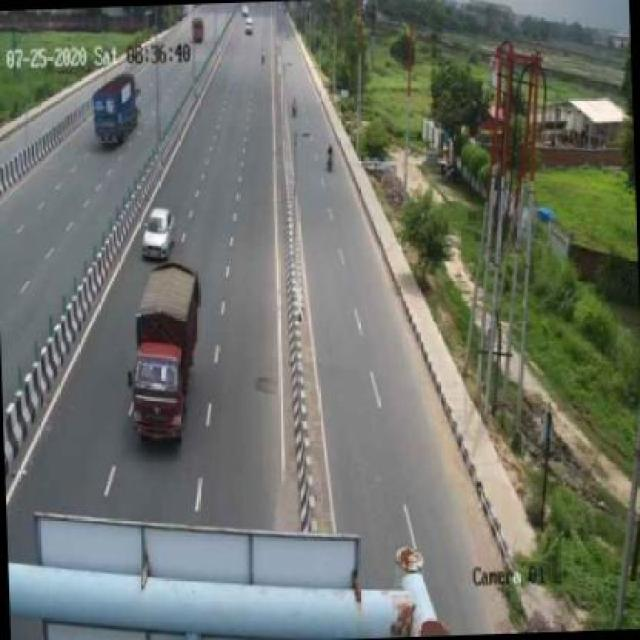car: (138, 206, 176, 265)
